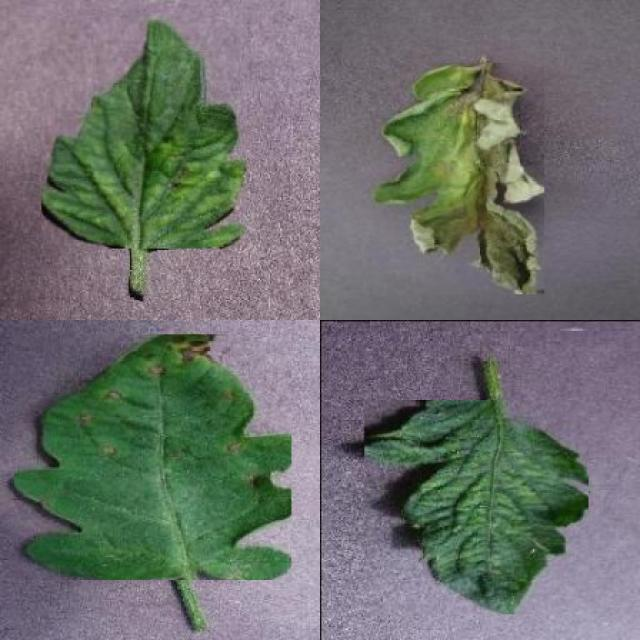Late Blight: (373, 63, 544, 294)
Mosaic Virus: (364, 400, 589, 614), (42, 15, 248, 248)
Septoria: (14, 334, 292, 580)
